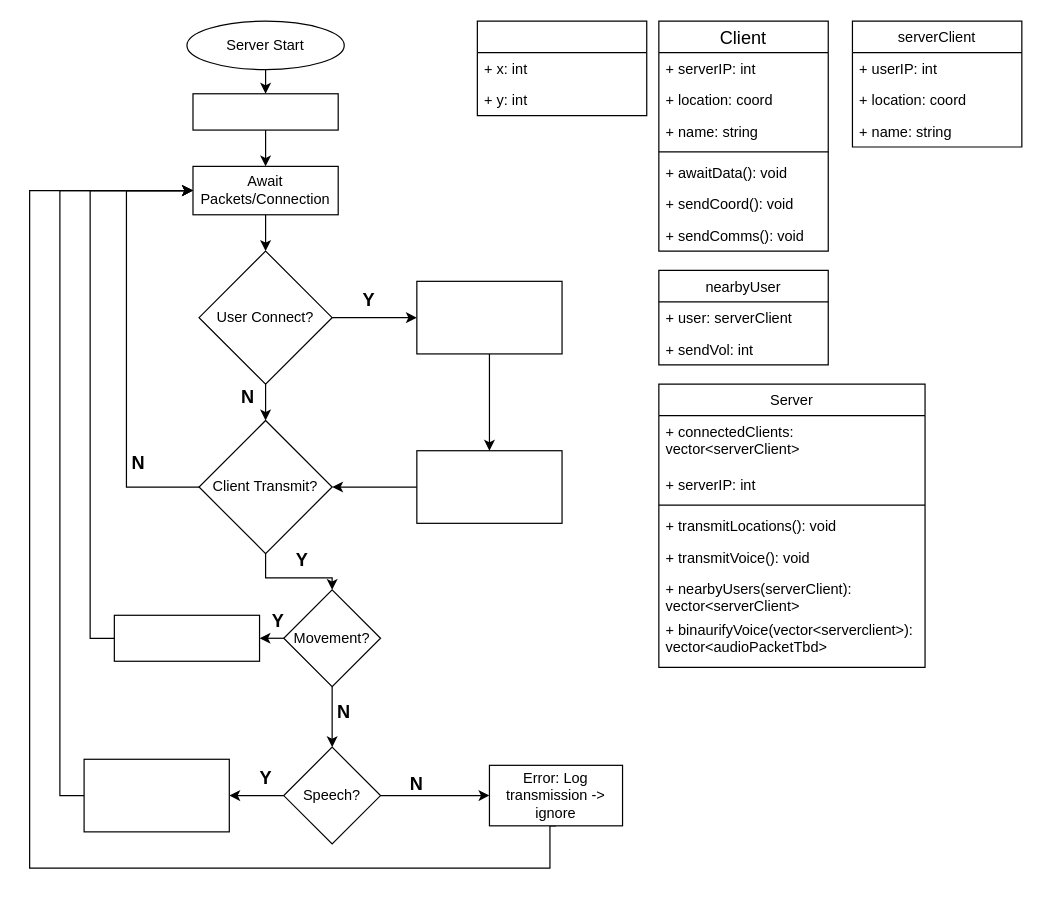
Image size: 1043x899. Some labels were removed from this diagram. The box of each missing label's shape, as (x1, y1, x2, y2) in pixels:
Add client to connectedClients: (416, 280, 562, 354)
Binaurify, transmit to nearbyClients: (83, 758, 229, 832)
coord: (476, 20, 647, 116)
Initial Setup: (192, 93, 338, 130)
Transmit new client to other clients: (416, 450, 562, 523)
Transmit to all clients: (113, 614, 260, 661)
